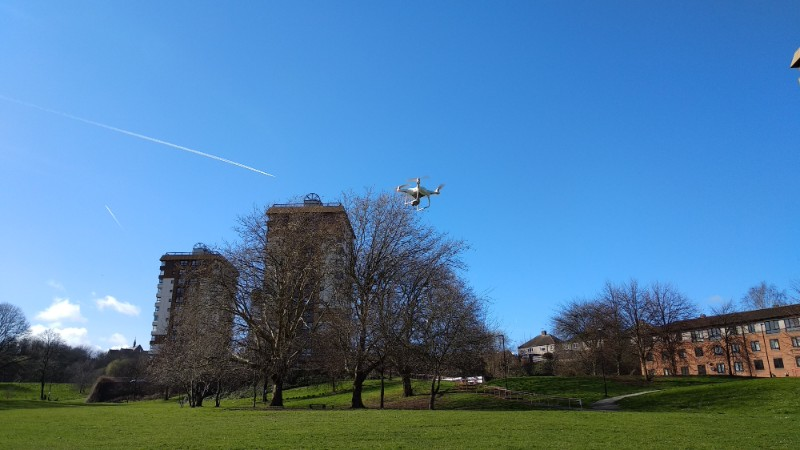drone: (393, 176, 445, 213)
